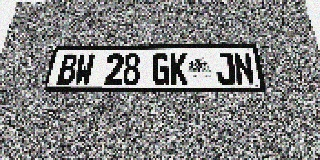2: (104, 54, 124, 85)
8: (122, 54, 141, 85)
B: (56, 54, 78, 85)
G: (152, 53, 170, 85)
J: (215, 52, 236, 85)
K: (170, 53, 188, 85)
N: (233, 52, 255, 85)
W: (74, 54, 95, 85)
